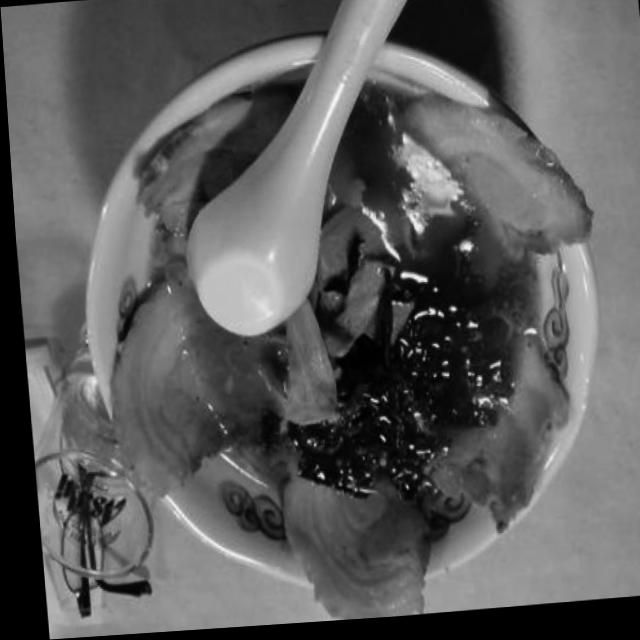面条主食: (55, 25, 607, 637)
